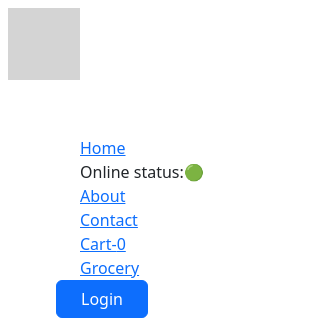
Should render login button to logout onclick
The width and height of the screenshot is (320, 335).
Step 1. Click the button "Login" → x=102, y=299, box [56,280,148,318]
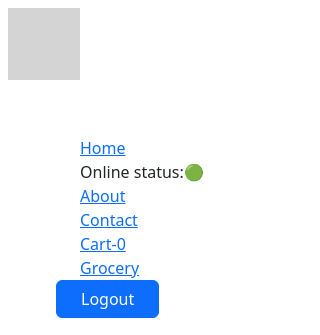
Result: the button "Logout" is shown at [56,280,159,318]
